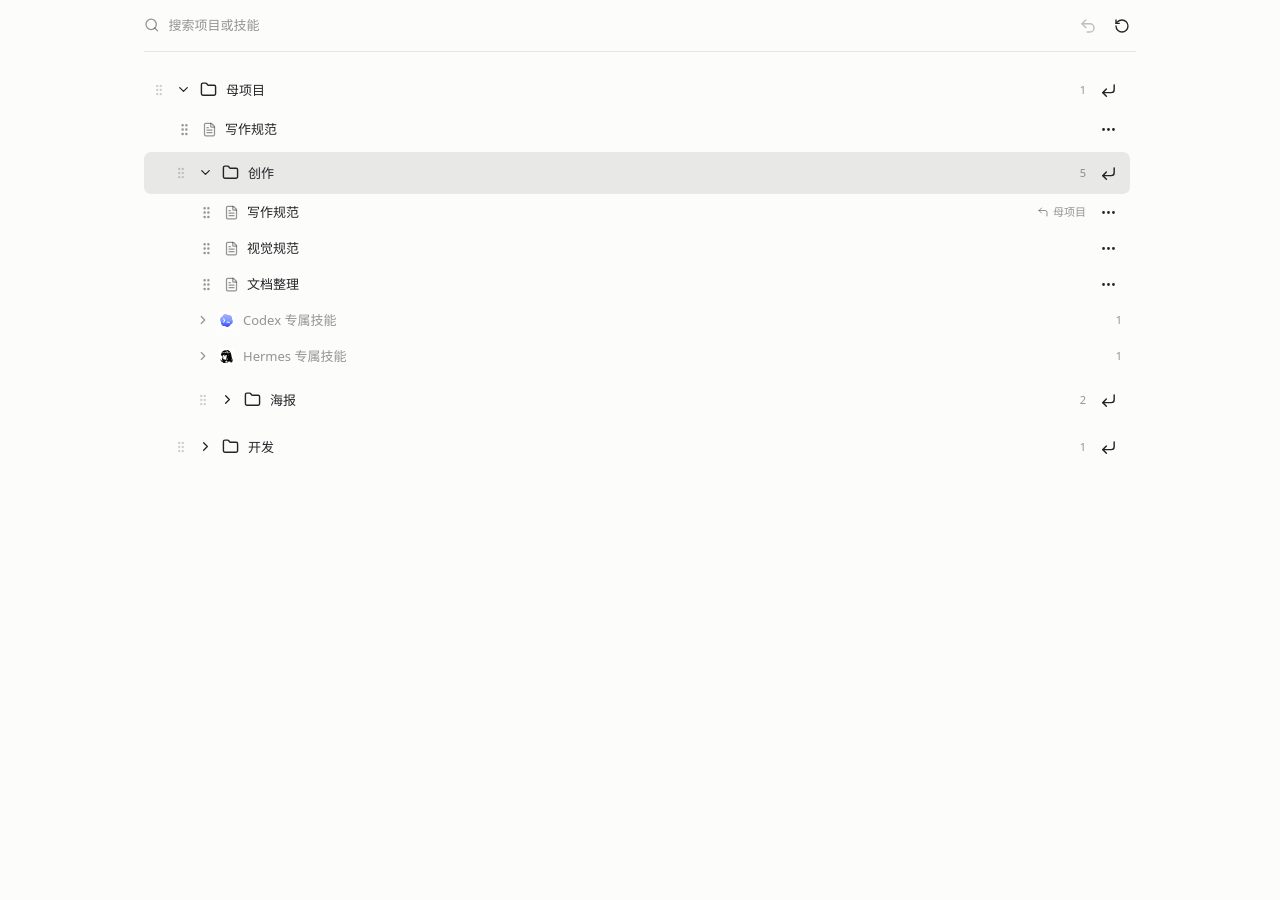
Test: ProjectSkillTree › cancelling the inherited impact dialog does not change an assignment
This screenshot has width=1280, height=900.
Step 1. Click the 2nd button named "的操作" → {"x": 1108, "y": 212}, box [1094, 198, 1122, 226]
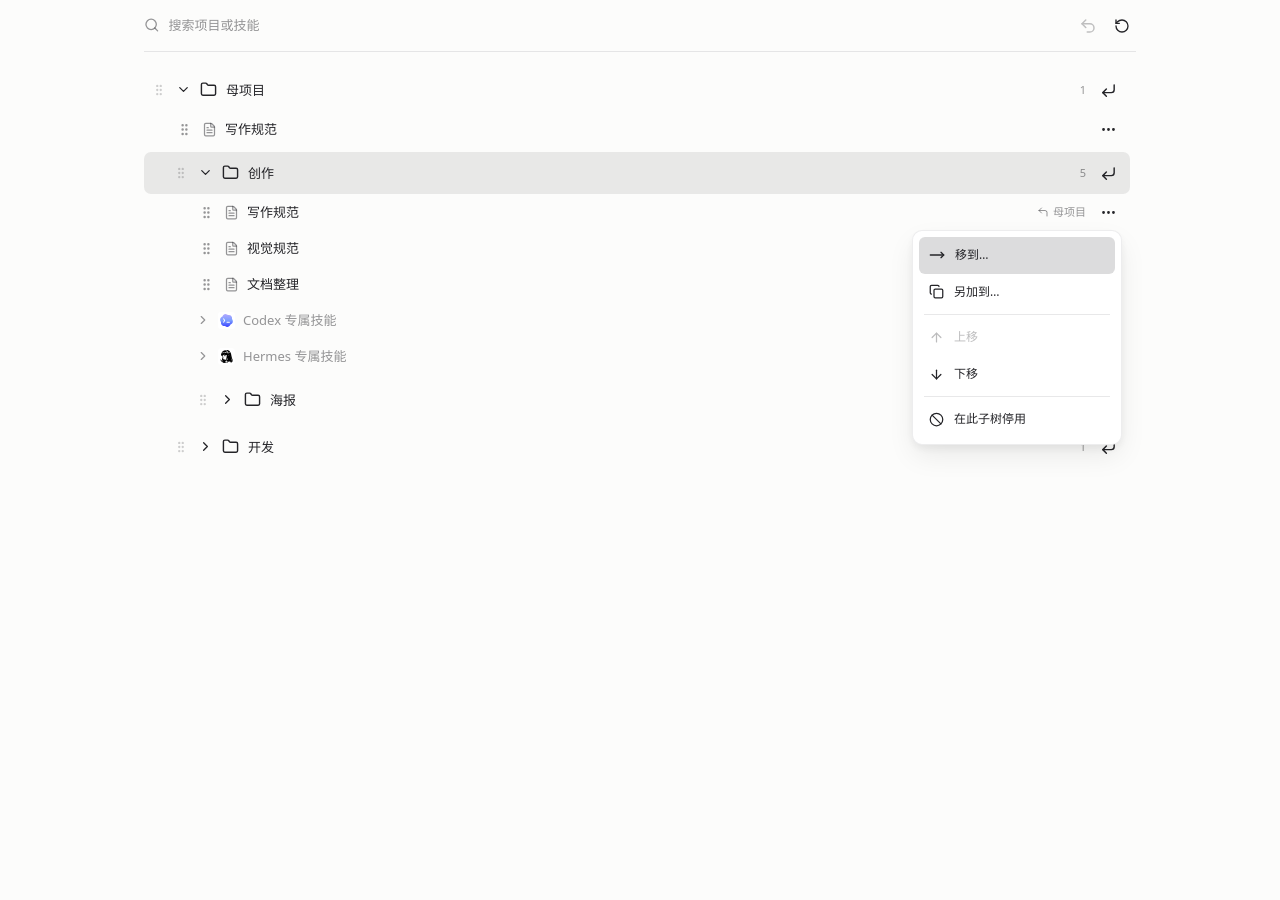
Step 2. Click the menu item "移到…" → {"x": 1017, "y": 255}, box [919, 237, 1115, 274]
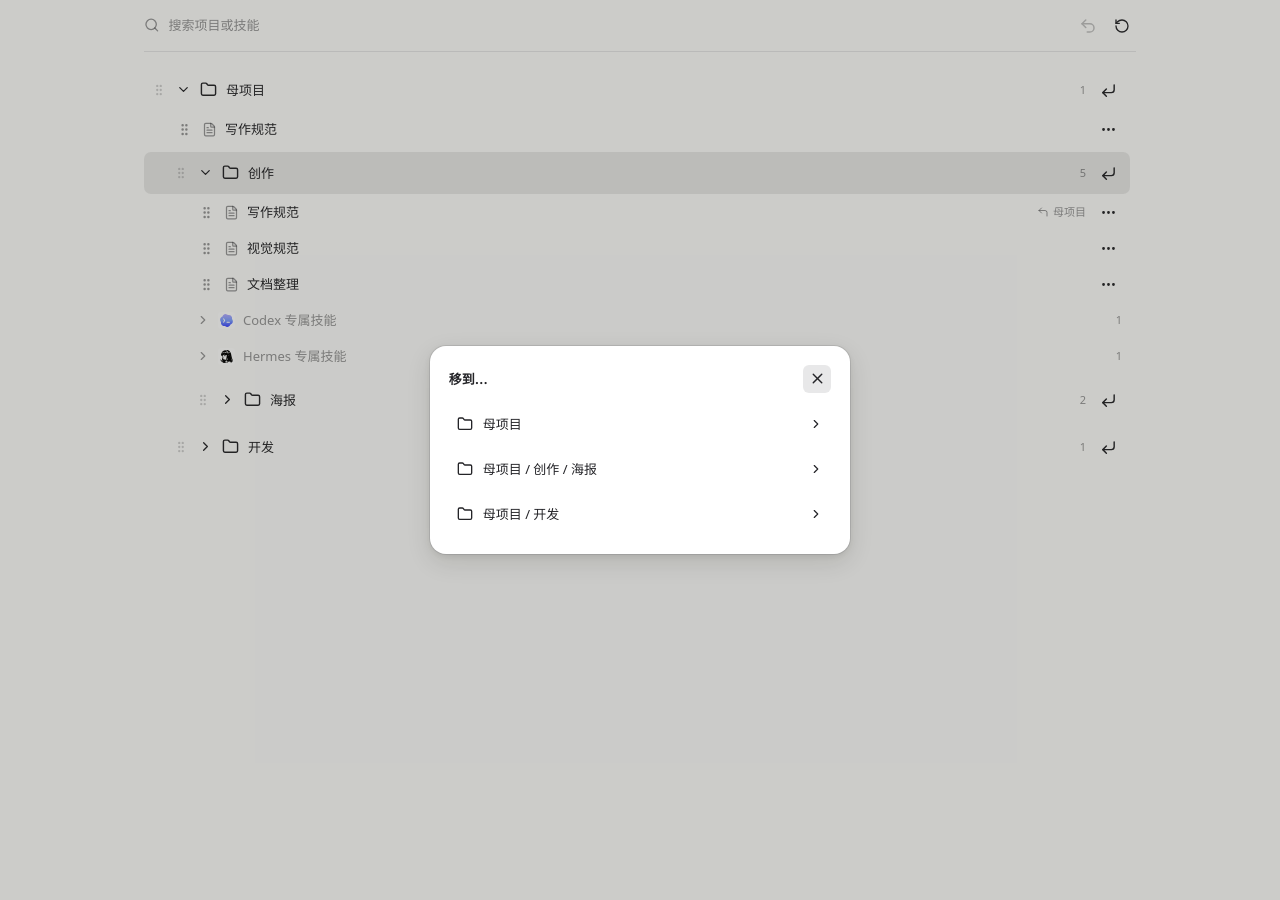
Step 3. Click the button "母项目 / 开发" → {"x": 521, "y": 514}, box [449, 493, 831, 535]
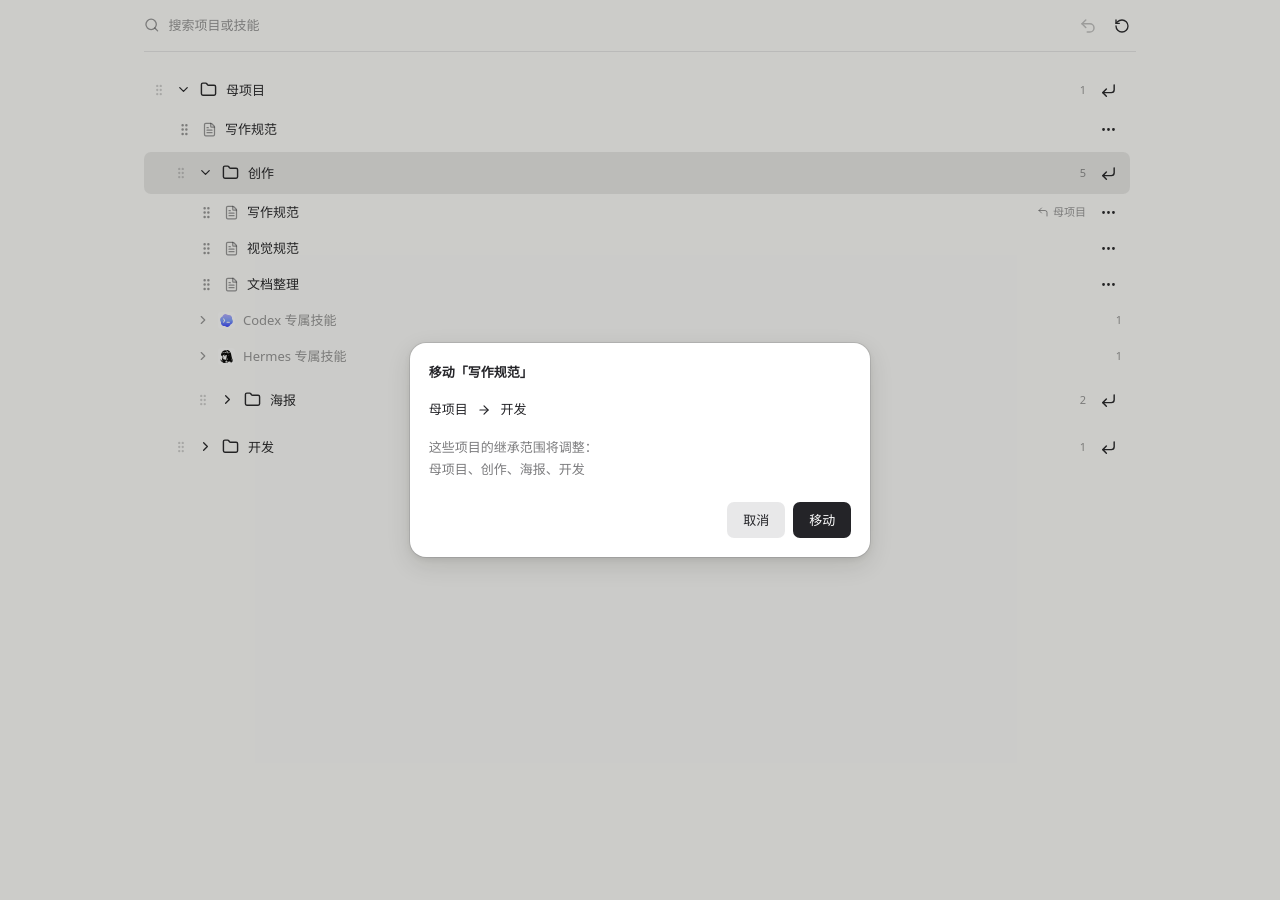
Step 4. Click the button "取消" → {"x": 756, "y": 520}, box [727, 502, 785, 538]
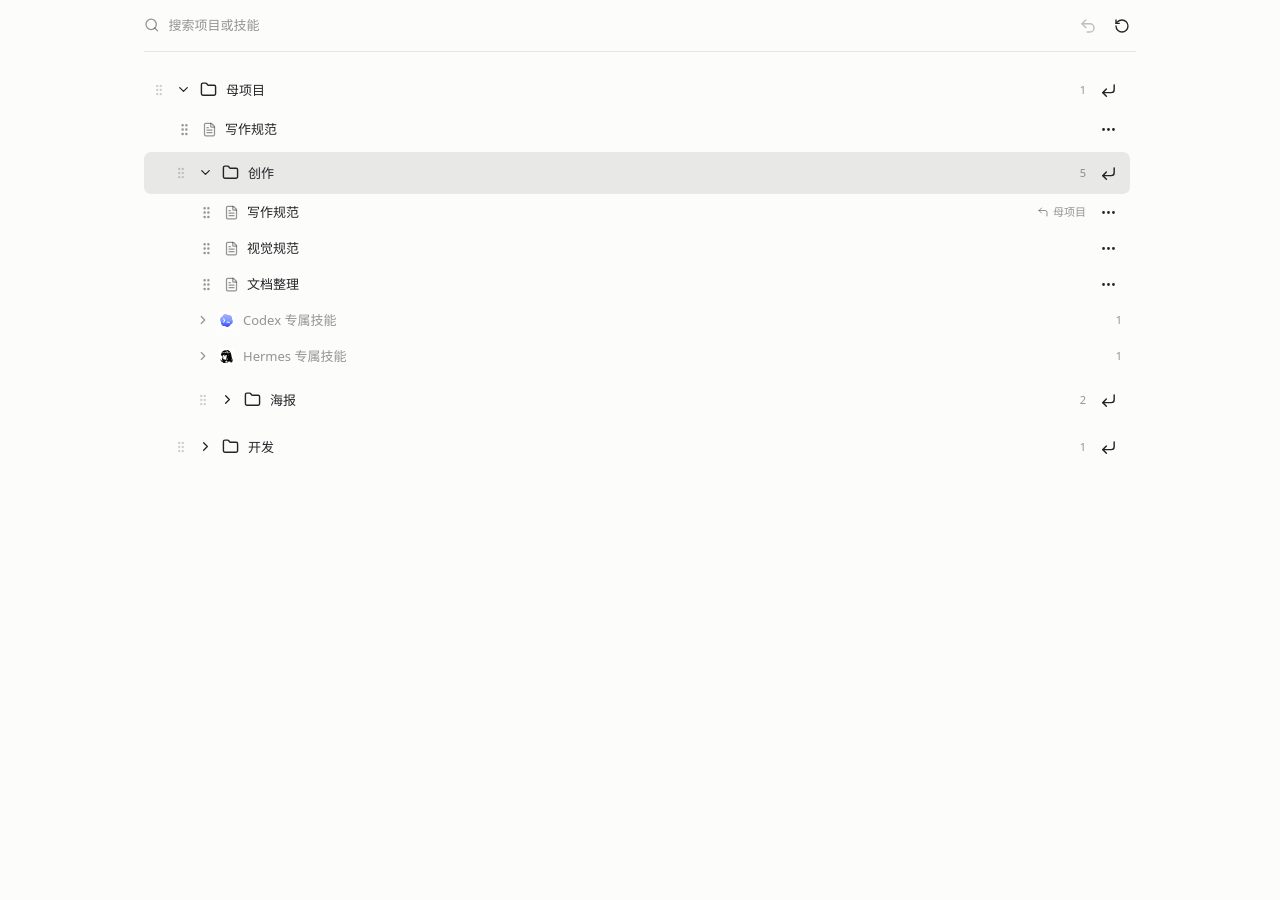
Result: the dialog is gone
